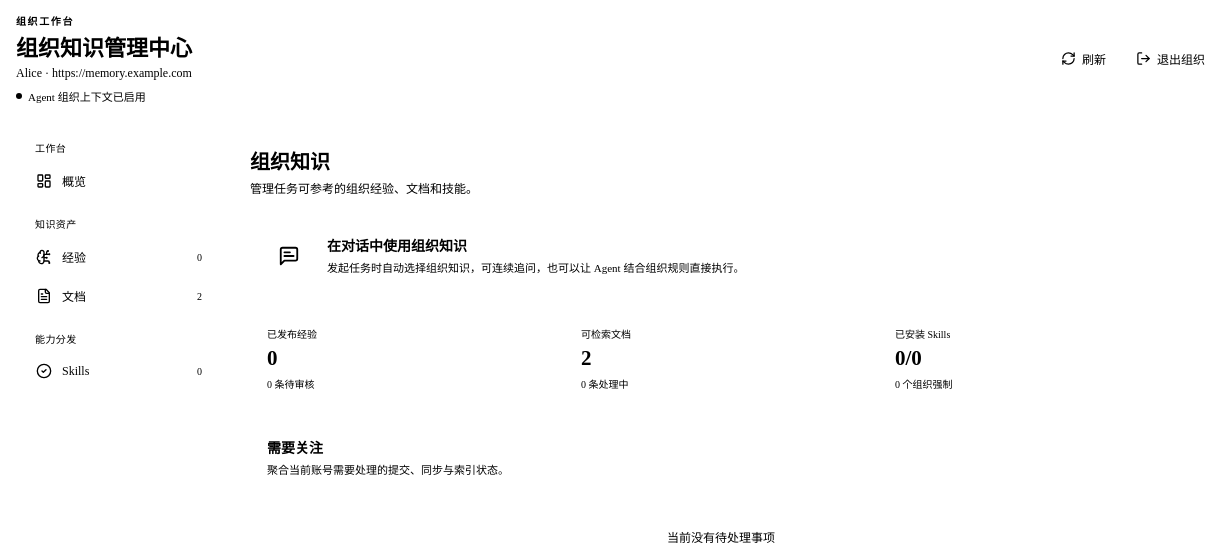
Test case: OrganizationMemoryPanel › 切换查看范围时只显示当前范围文档
The image size is (1222, 560).
Expected: the text "Alice · https://memory.example.com" is shown, top-left (16, 66), bottom-right (192, 81)
Click the button "文档 2" at (119, 296), box top-left (26, 278), bottom-right (212, 314)
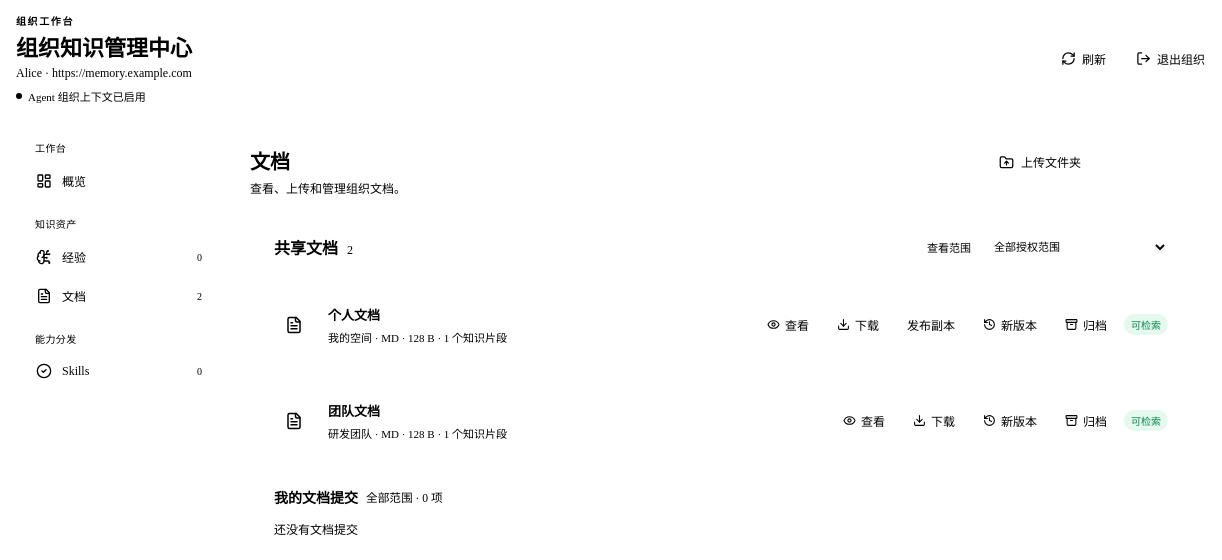
Expected: the text "个人文档" is shown, top-left (328, 308), bottom-right (380, 323)
Expected: the text "团队文档" is shown, top-left (328, 404), bottom-right (380, 419)
Select "团队 · 研发团队" in the dropdown labelled "查看范围" at (1074, 247), box top-left (980, 232), bottom-right (1168, 262)
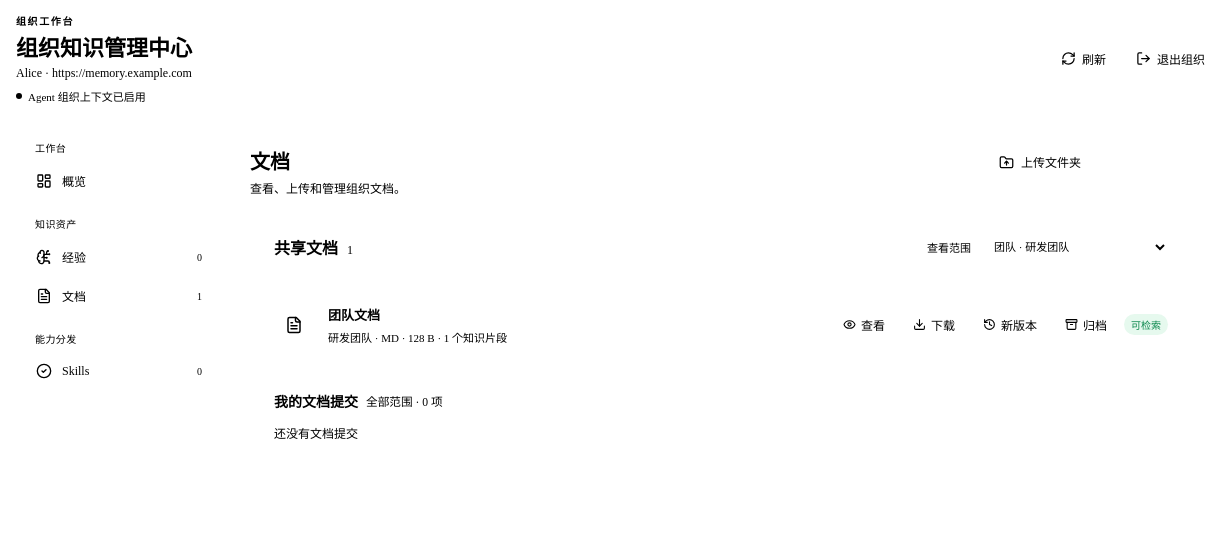
Expected: the text "团队文档" is shown, top-left (328, 308), bottom-right (380, 323)
Expected: the text "个人文档" is gone
